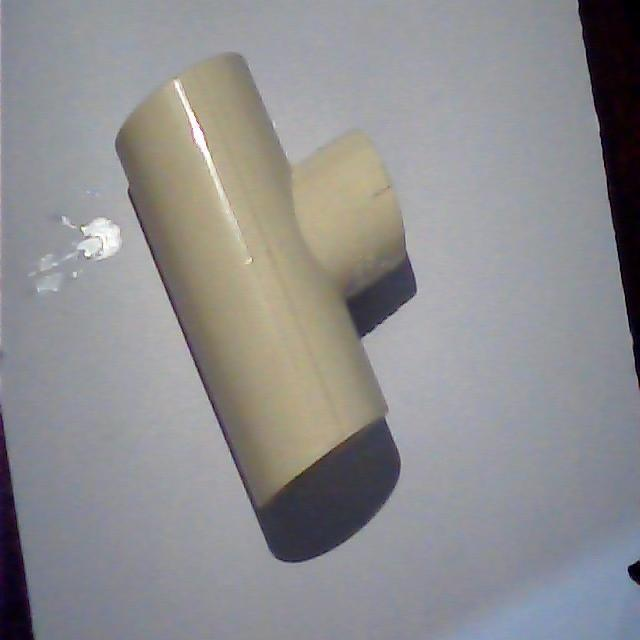T Joint: (113, 53, 415, 565)
